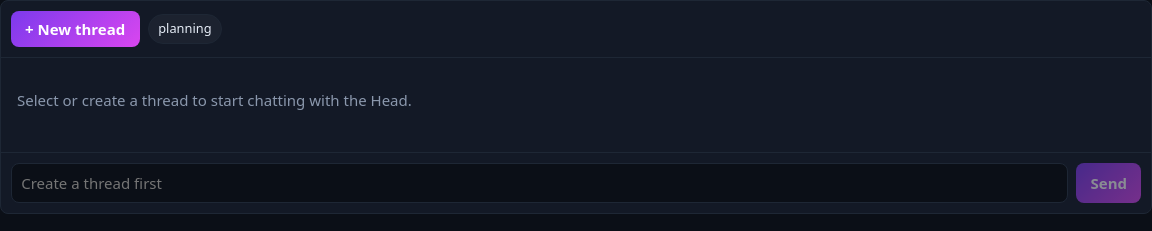
Test case: AgentChat › sends a message via streamAgentTurn
The width and height of the screenshot is (1152, 231).
Click the button "planning" at (185, 29), box [148,14,222,44]
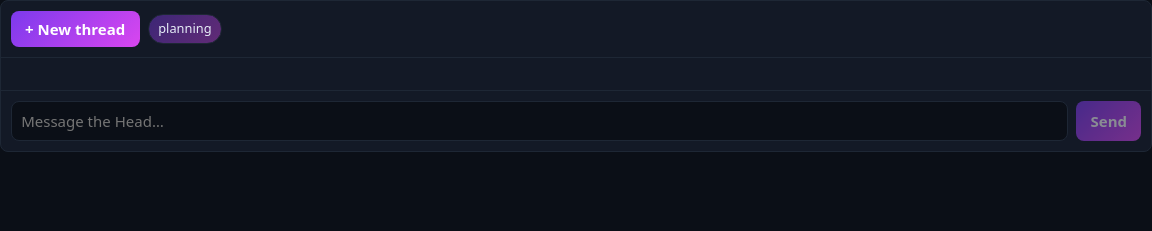
Type "plan next quarter" into the field with placeholder "Message the Head…" at (539, 121), box [11,101,1068,141]
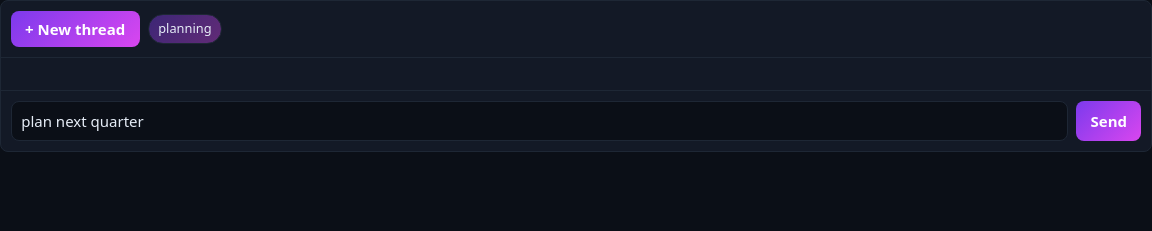
Click the button "Send" at (1109, 121), box [1076,101,1141,141]
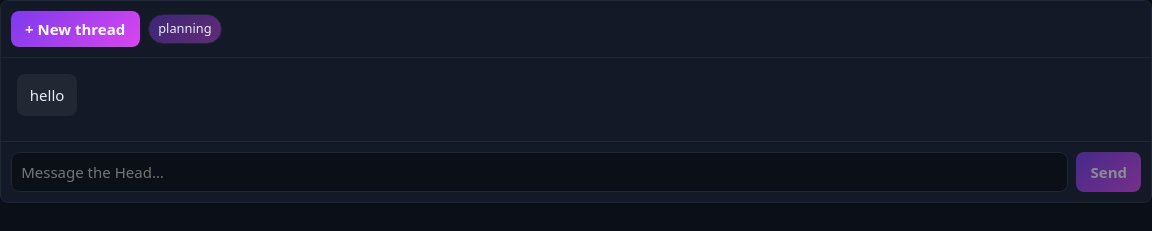
Expected: the text "hello" is shown, [17,74,77,116]
